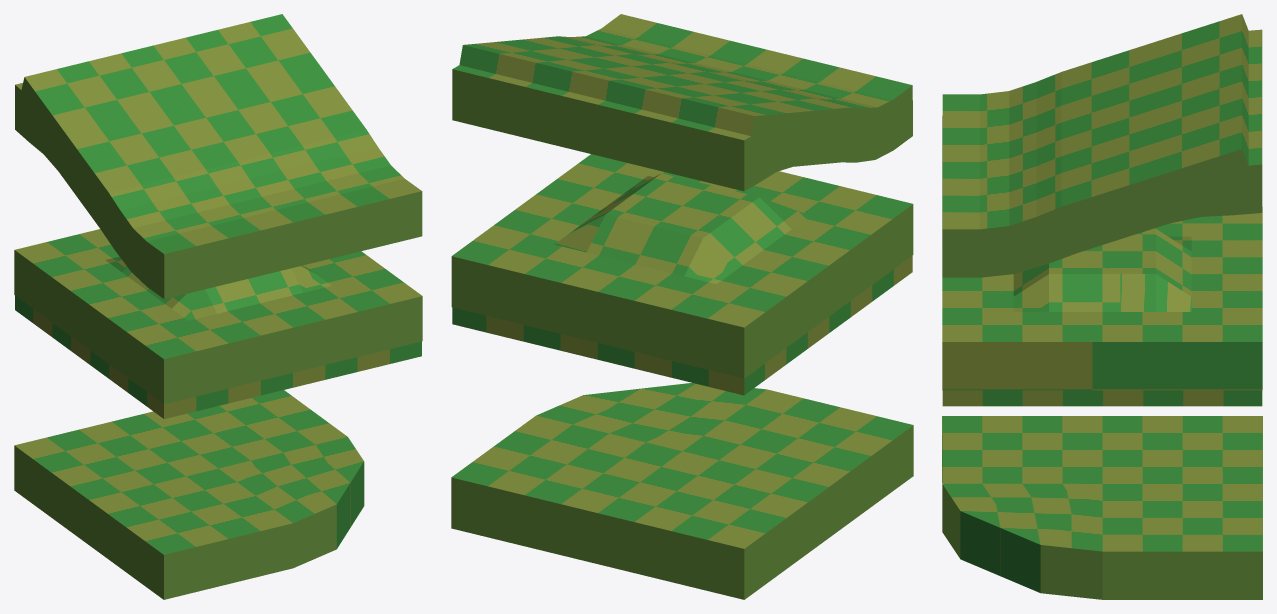
File: Terrains.glb
3 views of the same model, side by side, from view 1: azimuth 30°, elevation 25°; view 2: azimuth 150°, elevation 25°; view 3: azimuth 270°, elevation 25° (orthographic). The views are drawn at different scales.
Visible parts, largest first — view 1: Angle, Bosse, SlopeFin, SlopeMid, SlopeDeb, Plat; view 2: Angle, Bosse, SlopeDeb, SlopeMid, SlopeFin, Plat; view 3: Angle, Bosse, SlopeMid, SlopeFin, SlopeDeb, Plat.
Part boxes in pixels (<box>): Angle: <box>14,390,364,599</box>; Bosse: <box>14,229,422,404</box>; SlopeFin: <box>100,129,422,299</box>; SlopeMid: <box>16,14,366,228</box>; SlopeDeb: <box>15,72,338,189</box>; Plat: <box>15,295,421,418</box>; Angle: <box>451,383,913,599</box>; Bosse: <box>451,154,913,378</box>; SlopeDeb: <box>452,39,818,191</box>; SlopeMid: <box>459,36,849,169</box>; SlopeFin: <box>559,14,912,162</box>; Plat: <box>452,256,912,395</box>; Angle: <box>942,416,1262,599</box>; Bosse: <box>942,207,1262,390</box>; SlopeMid: <box>1061,14,1258,252</box>; SlopeFin: <box>942,72,1079,277</box>; SlopeDeb: <box>1121,29,1262,232</box>; Plat: <box>942,390,1262,406</box>.
Bounding box in the file's own units: 6.01 × 9.32 × 6.01.
Materials: 1 (1 with a texture image).
